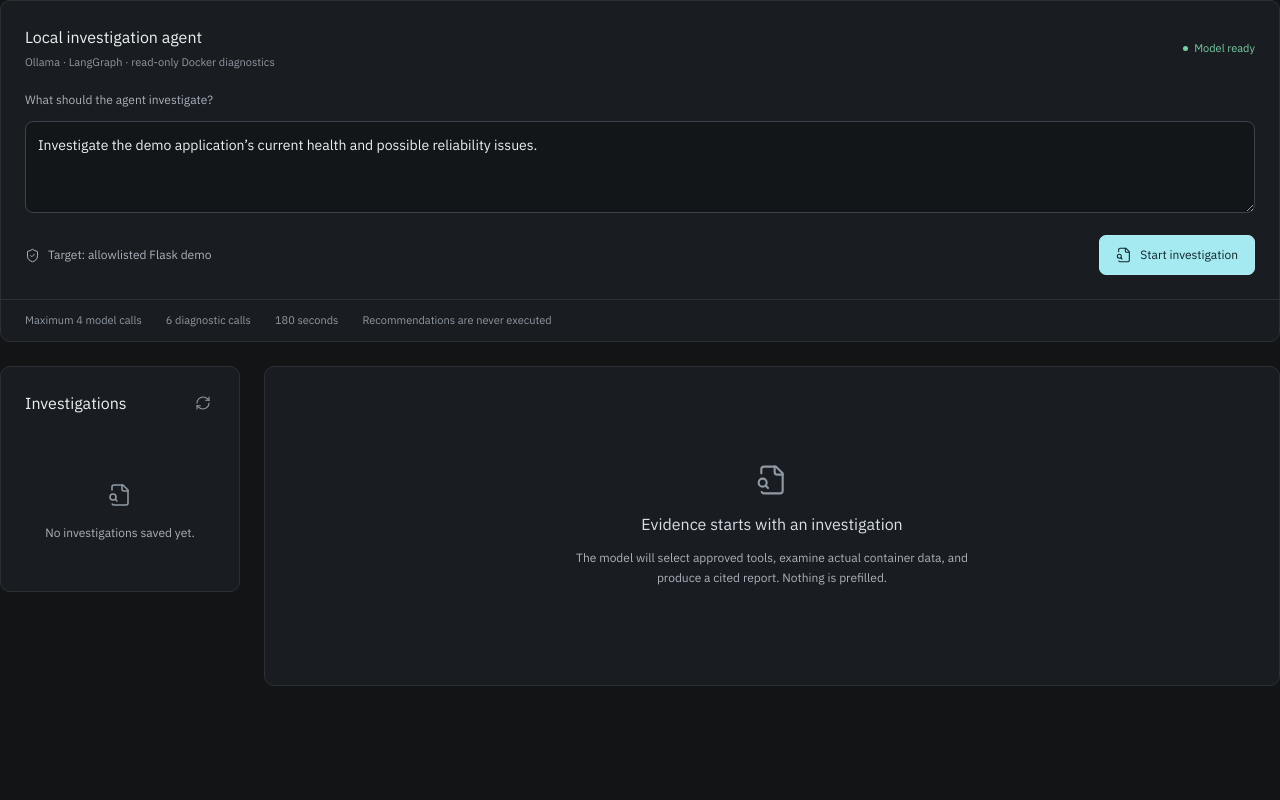
it: surfaces API failure without fabricating a report
Expected: the text "Model ready" is shown, [1183,40,1255,56]
Click the button "Start investigation".
click(1177, 255)  # box [1099,235,1255,275]
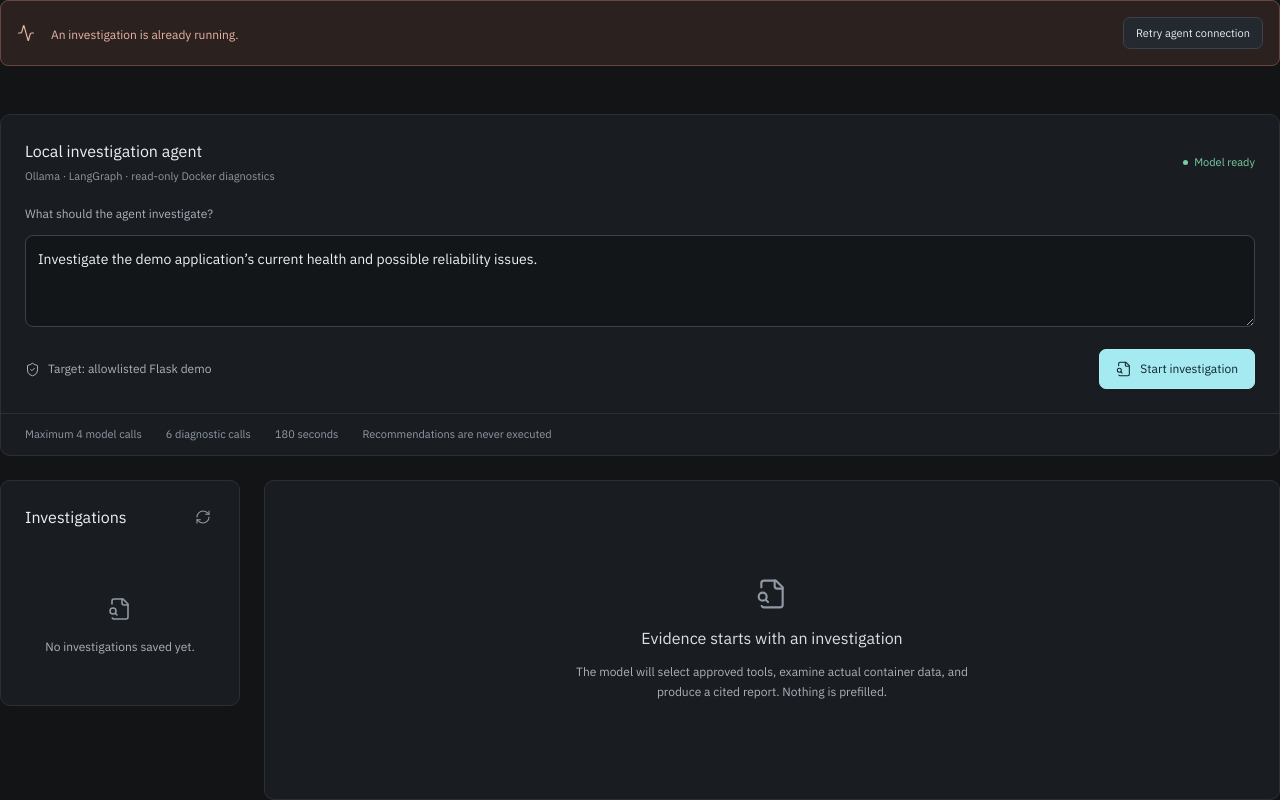
Now the message shows "An investigation is already running.", box [51,27,239,42]
